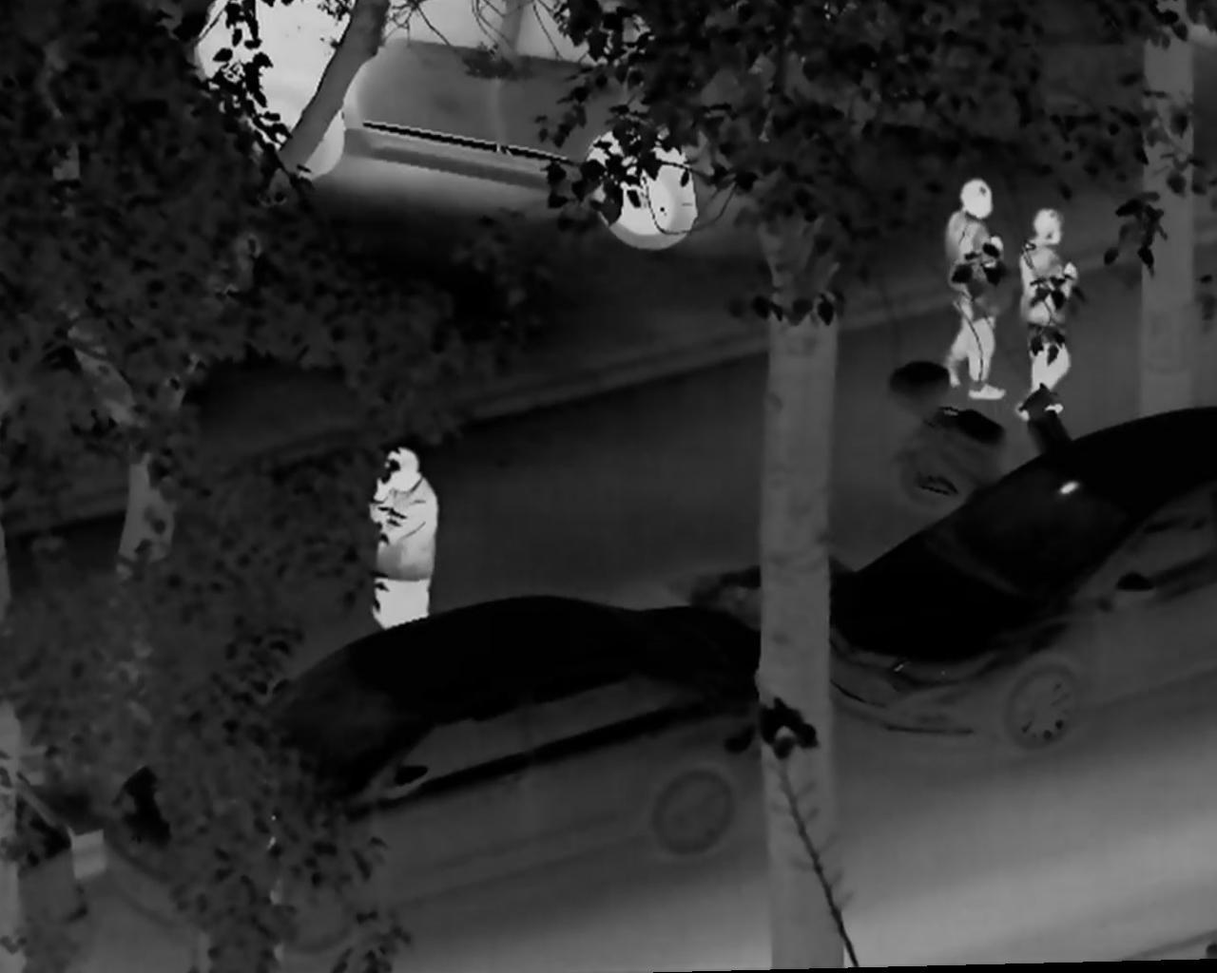person: (940, 177, 1016, 404), (361, 439, 439, 636), (1014, 206, 1081, 425)
